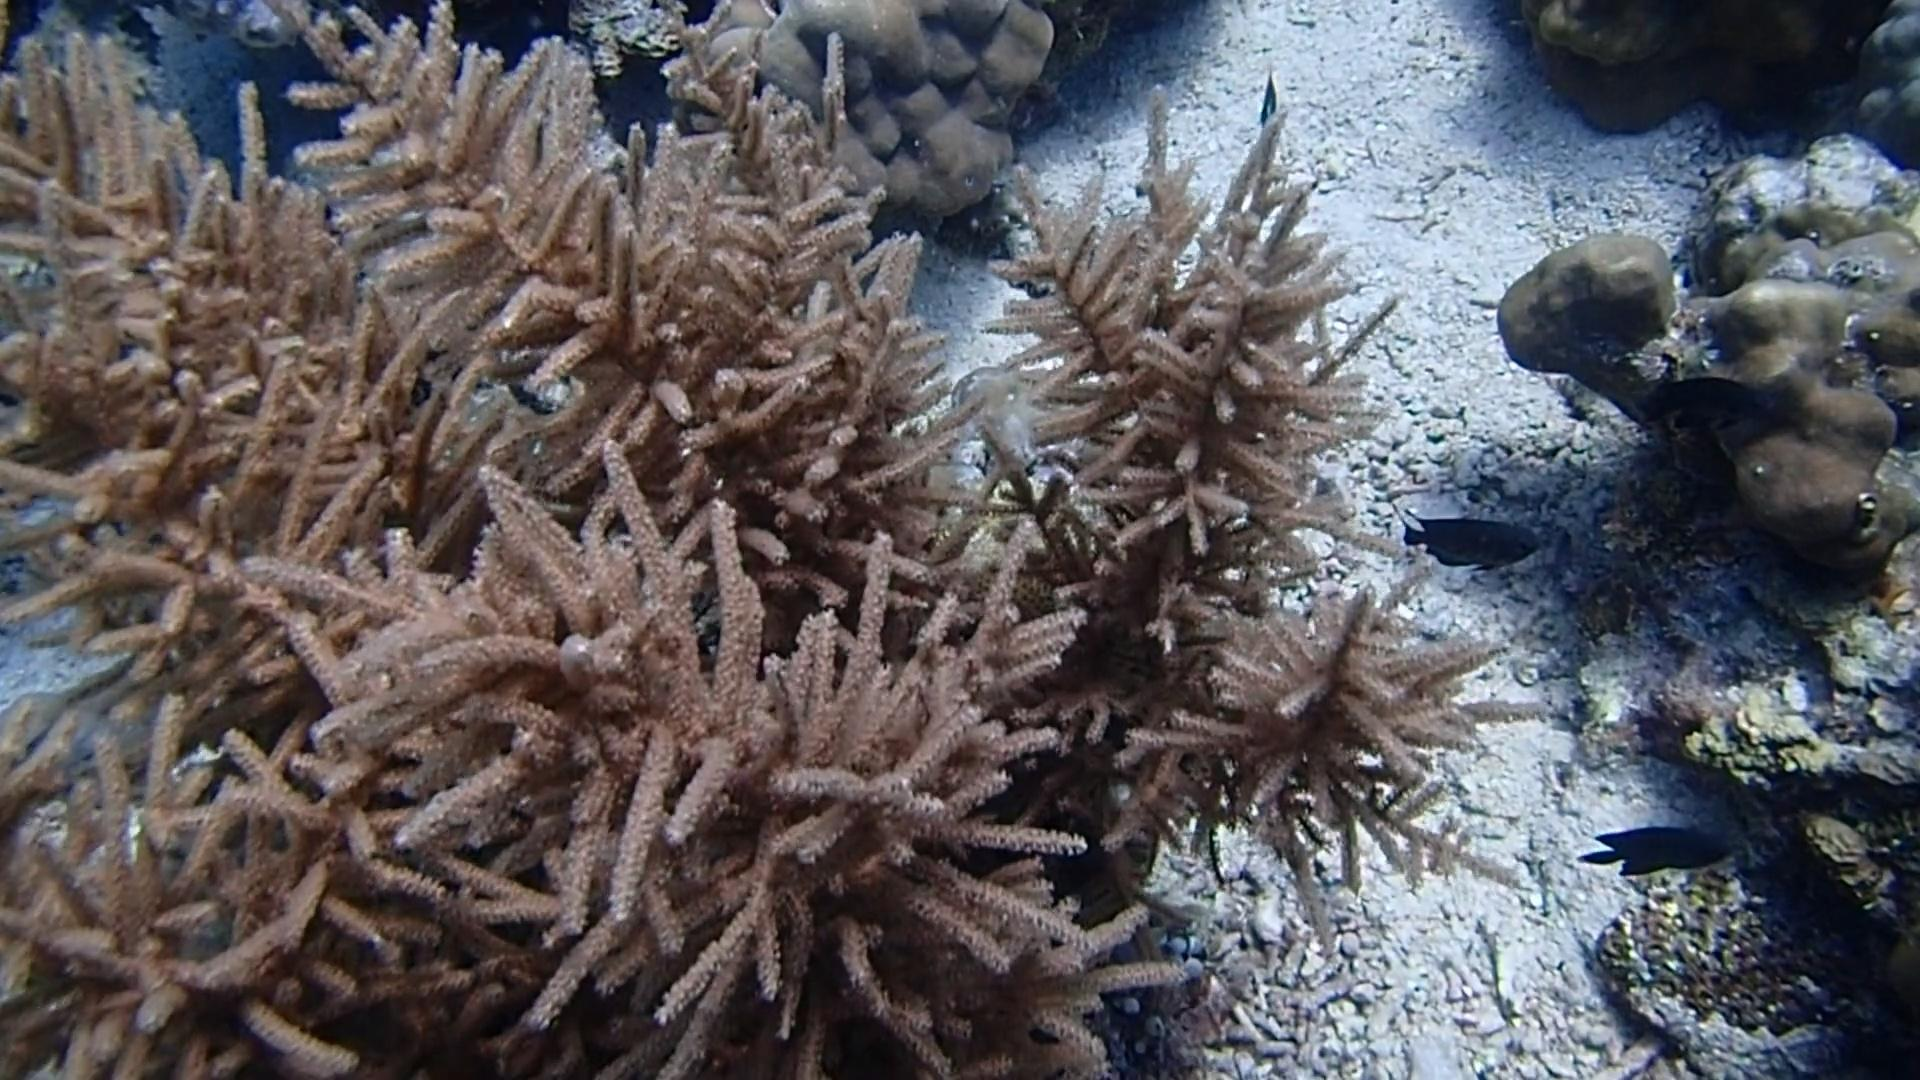Dark Fish: (1387, 509, 1543, 582), (1575, 822, 1738, 885), (1625, 372, 1767, 442)
Yellow Tail: (1246, 62, 1294, 141)
